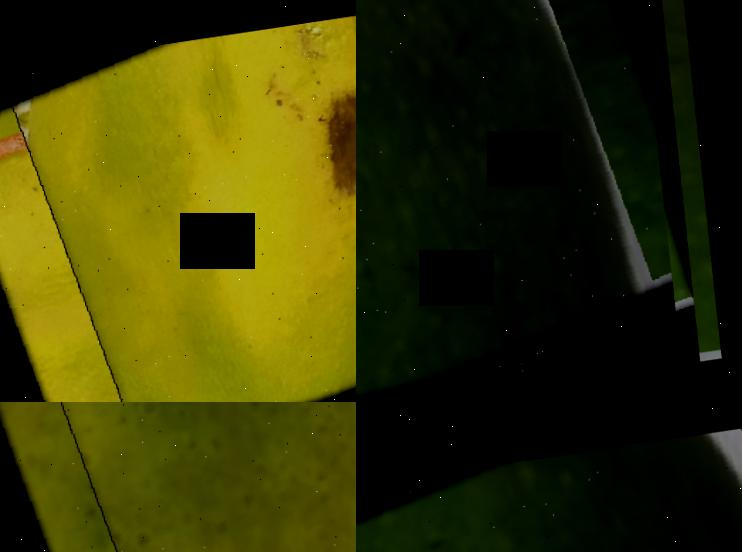PartiallyRipe: (0, 402, 356, 552)
Ripe: (0, 0, 356, 402)
Unripe: (356, 0, 703, 402), (356, 406, 742, 552)
